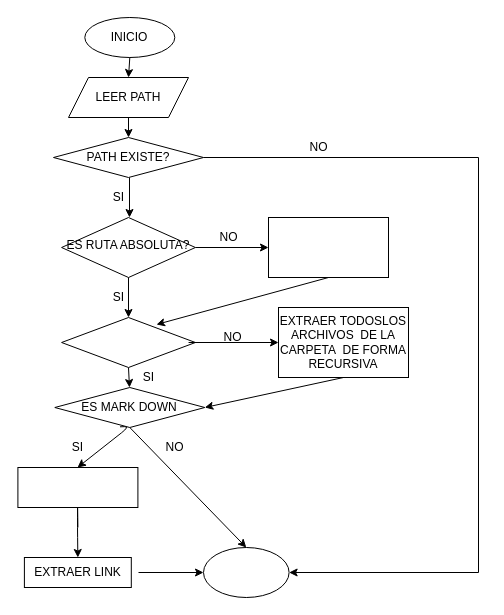
The diagram is 504 pixels wide and 615 high, and some of its shapes have lost their labels. Here are the shapes that lost their labels. From the top down, the box of each, then its label:
(268, 216, 388, 278): CONVERTIR A RUTA ABSOLUTA
(61, 316, 195, 368): ES ARCHIVO?
(17, 466, 138, 508): LEER ARCHIVO
(202, 546, 289, 598): FIN
